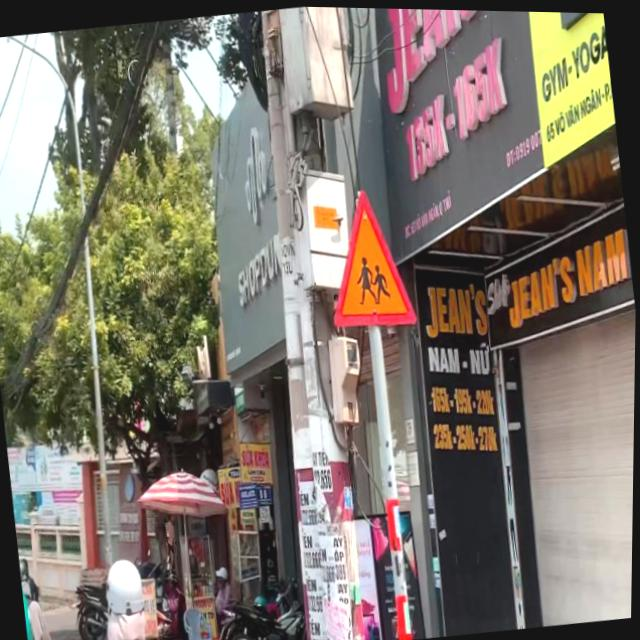Tre em: (315, 178, 423, 340)
